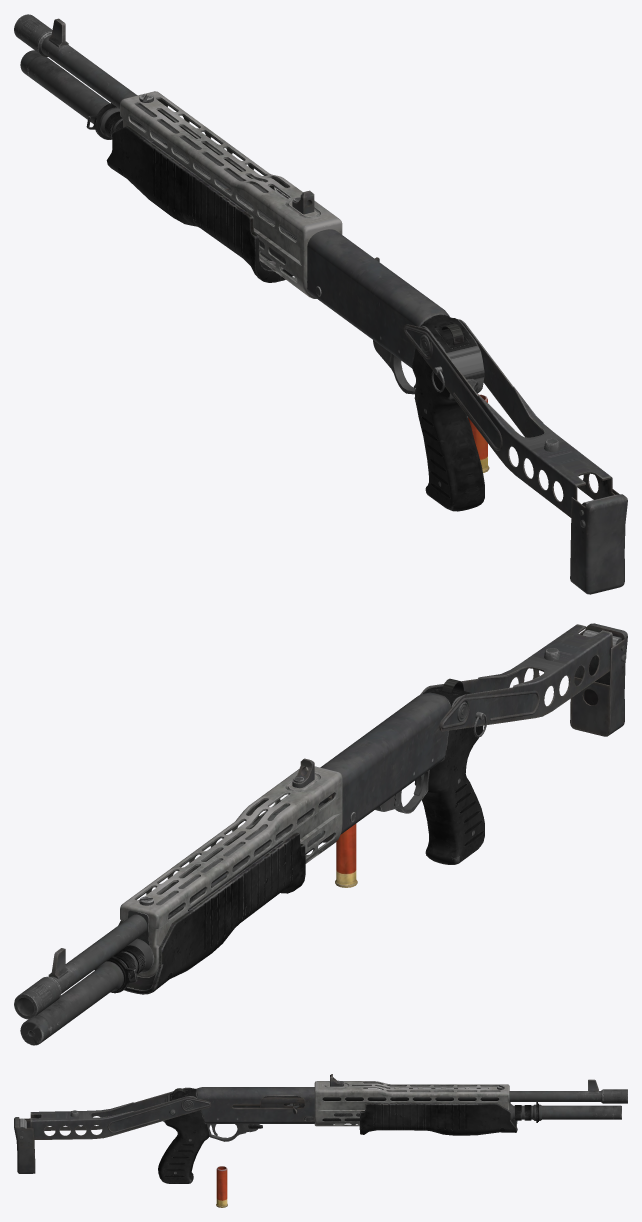
File: sf_spas.glb
The picture shows the model from 3 angles, top to bottom: view 1: azimuth 30°, elevation 25°; view 2: azimuth 150°, elevation 25°; view 3: azimuth 270°, elevation 25°; orthographic projection. The views are drawn at different scales.
Parts seen in each view (by area): view 1: Object_5, Object_2; view 2: Object_5, Object_2; view 3: Object_5, Object_2.
Boxes of the visible parts, <box> form: Object_5: <box>48,18,627,594</box>; Object_2: <box>14,14,617,527</box>; Object_5: <box>48,623,627,994</box>; Object_2: <box>14,630,626,1045</box>; Object_5: <box>14,1074,598,1207</box>; Object_2: <box>19,1081,627,1183</box>.
Bounding box in the file's own units: 0.1036 × 0.2124 × 1.04.
2 materials, 2 textured.
